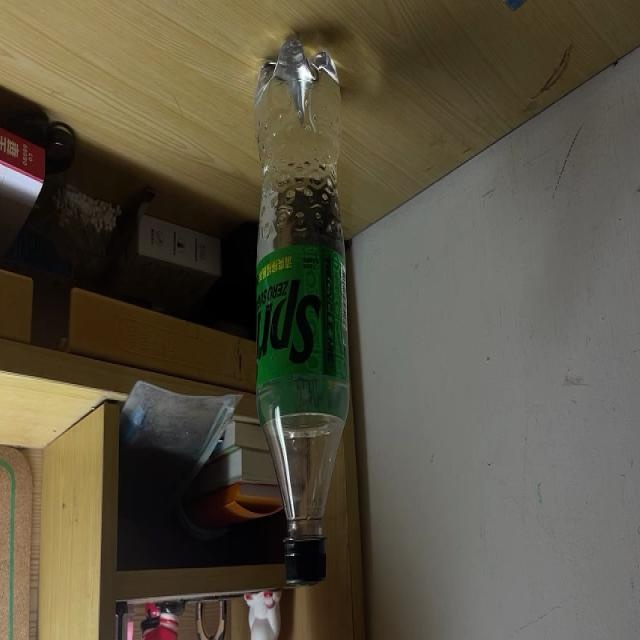Sprite: (255, 29, 352, 586)
